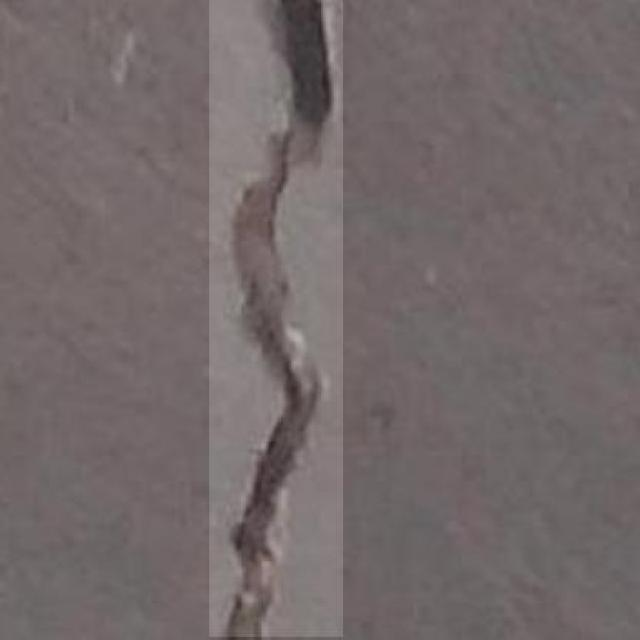Crack: (195, 4, 337, 640)
